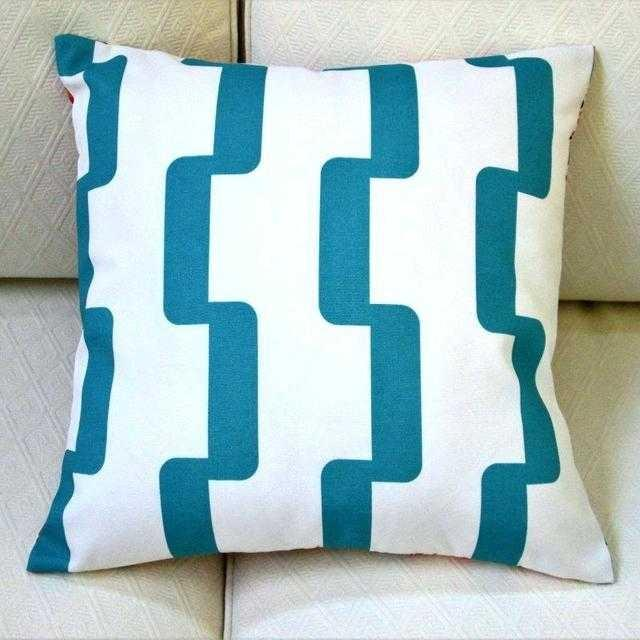pillow: (24, 31, 616, 586)
